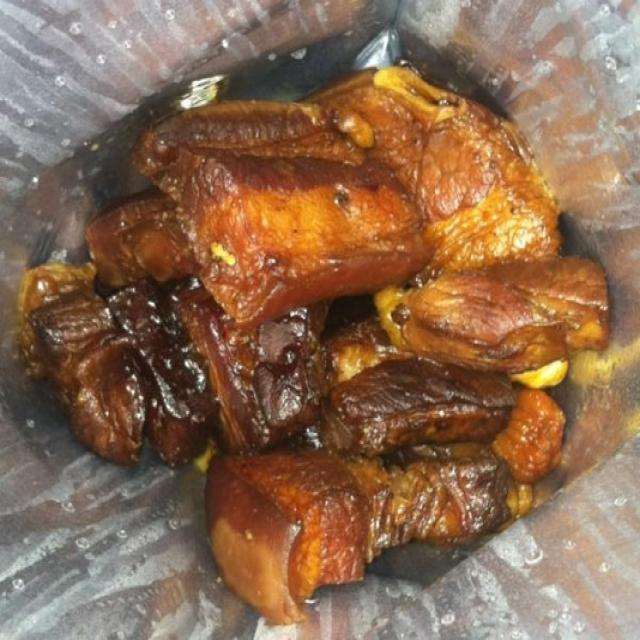牛肉菜式: (19, 15, 621, 613)
